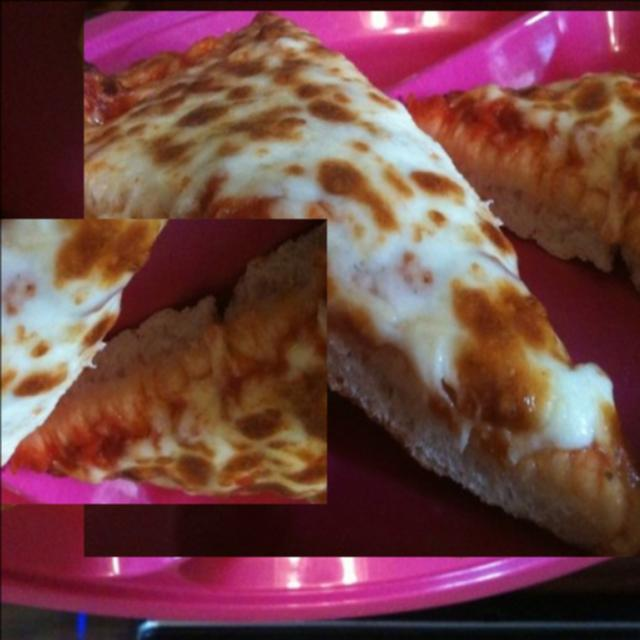pizza: (83, 10, 640, 556), (0, 218, 326, 503)
